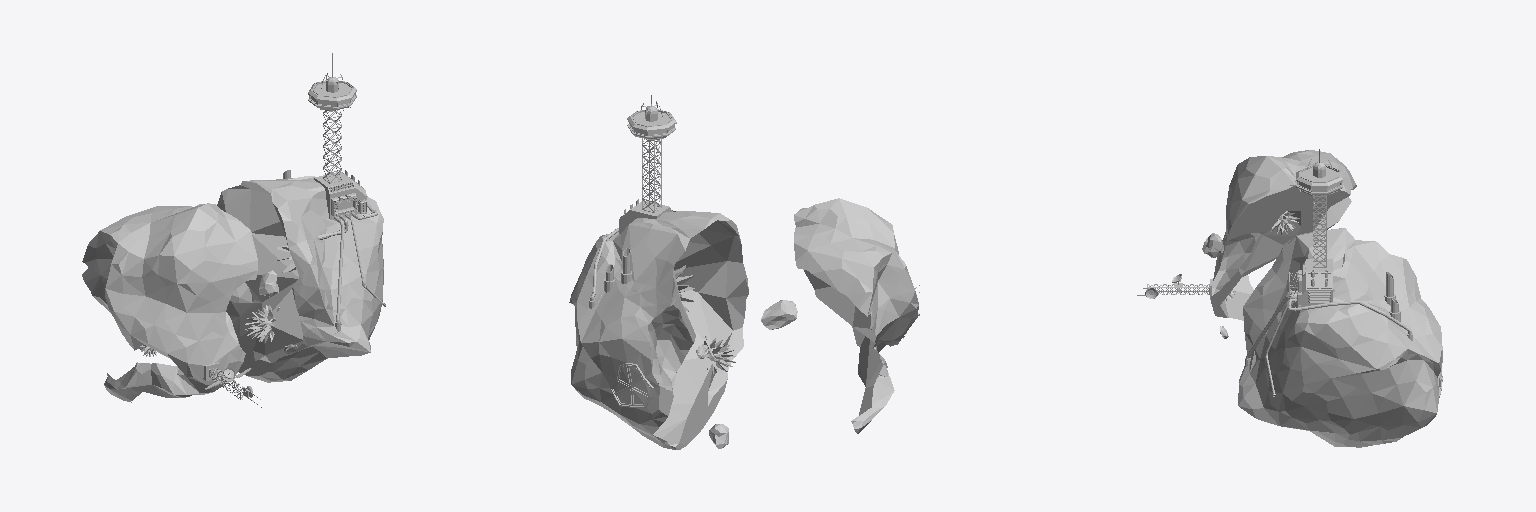
The model's file is serenity station.obj.
3 renders of one model, left to right at view 1: azimuth 30°, elevation 25°; view 2: azimuth 150°, elevation 25°; view 3: azimuth 270°, elevation 25°, orthographic.
Parts seen in each view (by area): view 1: station; view 2: station; view 3: station.
Boxes of the visible parts, x1,y1,x2,y2 form: station: [82, 53, 385, 407]; station: [569, 95, 919, 449]; station: [1137, 149, 1442, 447].
Bounding box in the file's own units: 203 × 214 × 192.